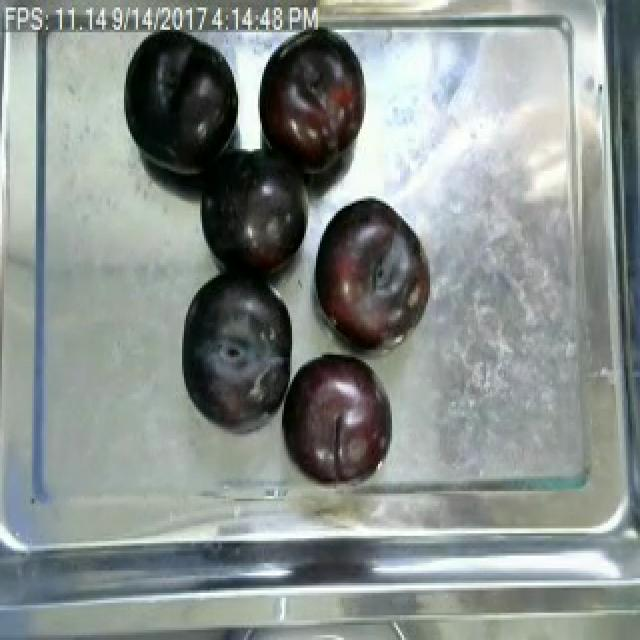Fruit: (304, 189, 440, 362), (172, 261, 294, 439), (248, 27, 376, 186), (118, 27, 246, 184), (274, 344, 398, 494), (194, 137, 316, 286)
